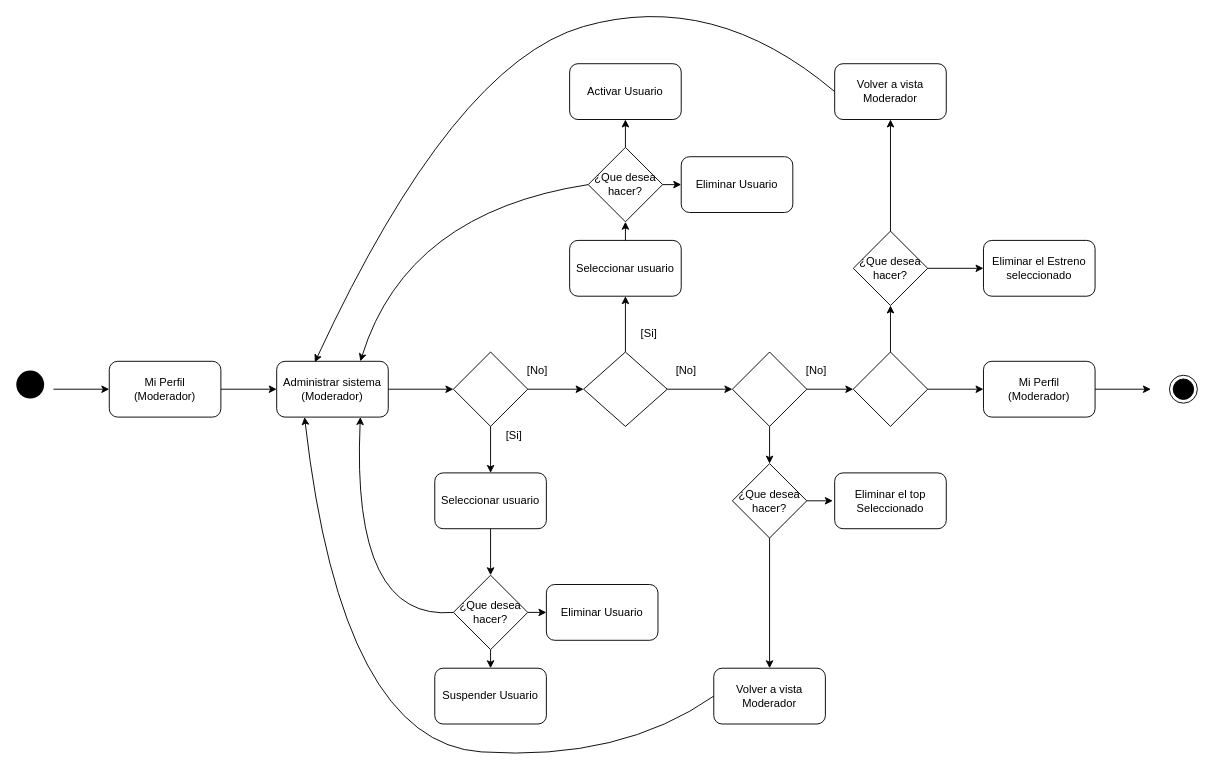
Image size: 1214x769. Some labels were removed from this diagram. Here are the shapes that lost their labels. From the top down, the centre of each, then its label:
At (490,388): "¿Administrar usuarios?".
At (625,388): "¿Administar usuarios suspendidos?".
At (769,388): "¿Administrar tops?".
At (890,388): "¿Administrar Estrenos?".
